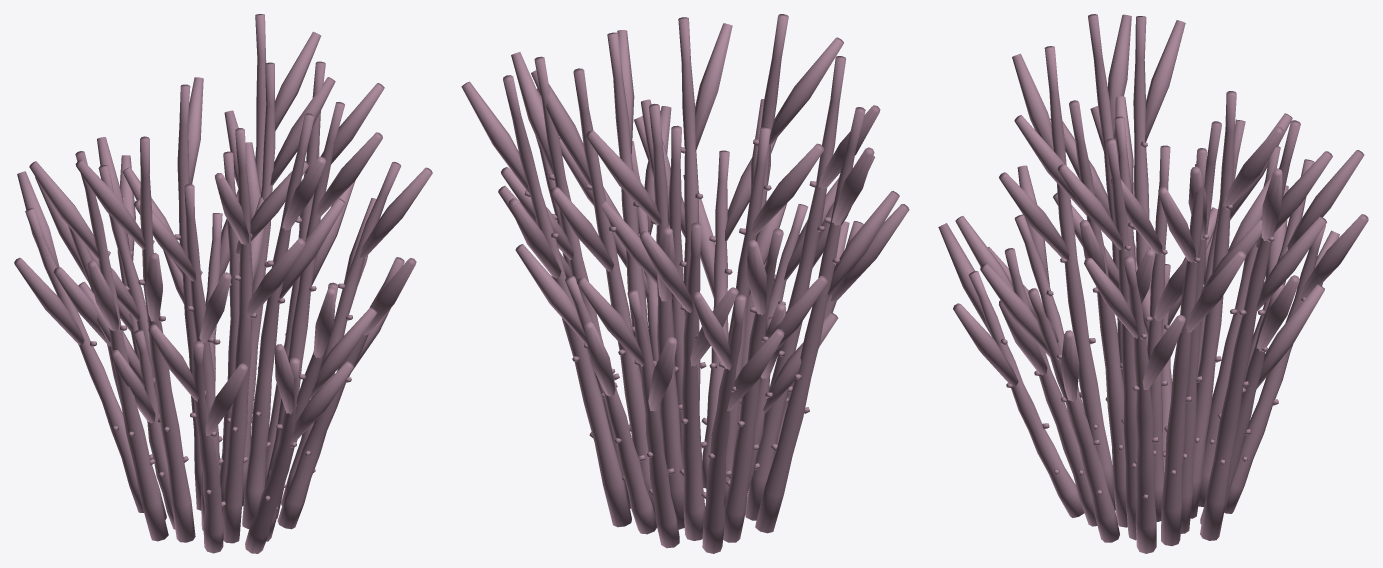
File: birdsnest-mobile.glb
3 views of the same model, side by side, from view 1: azimuth 30°, elevation 25°; view 2: azimuth 150°, elevation 25°; view 3: azimuth 270°, elevation 25° (orthographic). The views are drawn at different scales.
Parts seen in each view (by area): view 1: branch, lateral-branch, radial-corallite; view 2: branch, lateral-branch, radial-corallite; view 3: branch, lateral-branch, radial-corallite.
Boxes of the visible parts, x1,y1,x2,y2 form: branch: [25, 14, 404, 553]; lateral-branch: [14, 31, 432, 445]; radial-corallite: [90, 217, 352, 510]; branch: [503, 14, 865, 553]; lateral-branch: [461, 23, 909, 413]; radial-corallite: [524, 139, 840, 498]; branch: [968, 14, 1325, 553]; lateral-branch: [938, 14, 1368, 401]; radial-corallite: [1000, 141, 1305, 499].
Size of the model in its own units: 0.524 by 0.6126 by 0.5247.
